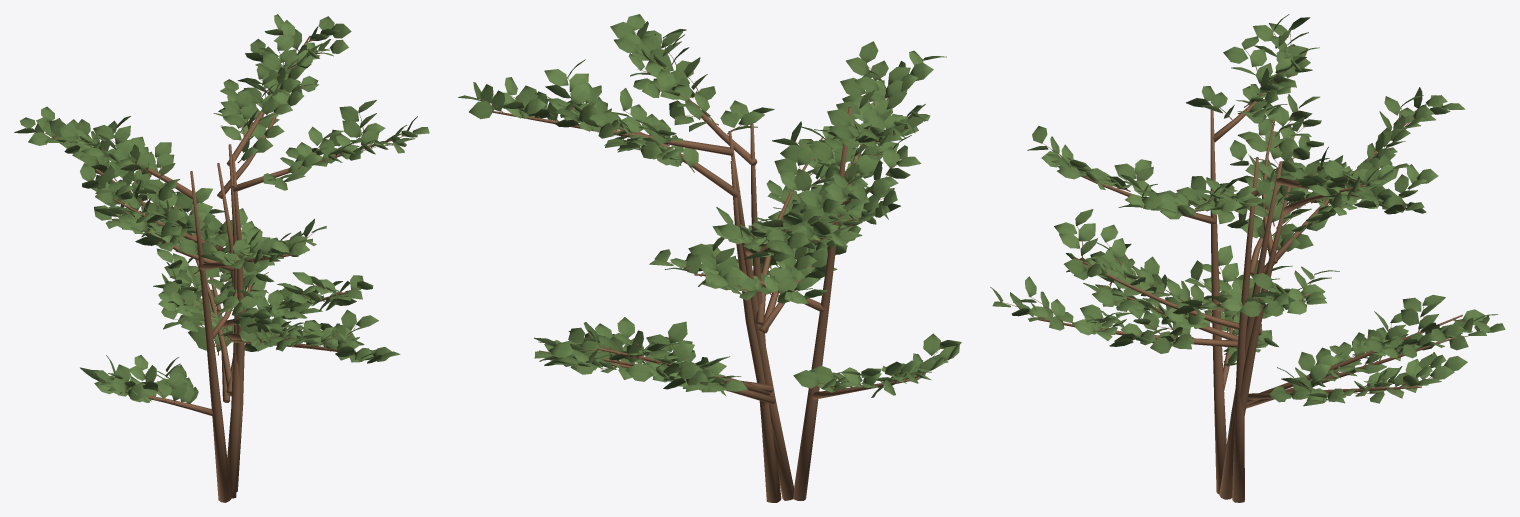
Rendered from Arbousier_0_LOD0.fbx.
3 views of the same model, side by side, from view 1: azimuth 30°, elevation 25°; view 2: azimuth 150°, elevation 25°; view 3: azimuth 270°, elevation 25° (orthographic). The views are drawn at different scales.
Parts seen in each view (by area): view 1: Arbousier_0_LOD0; view 2: Arbousier_0_LOD0; view 3: Arbousier_0_LOD0.
Boxes of the visible parts, <box> form: Arbousier_0_LOD0: <box>14,14,429,502</box>; Arbousier_0_LOD0: <box>458,14,961,502</box>; Arbousier_0_LOD0: <box>990,14,1505,502</box>.
Bounding box in the file's own units: 285 × 305 × 348.
